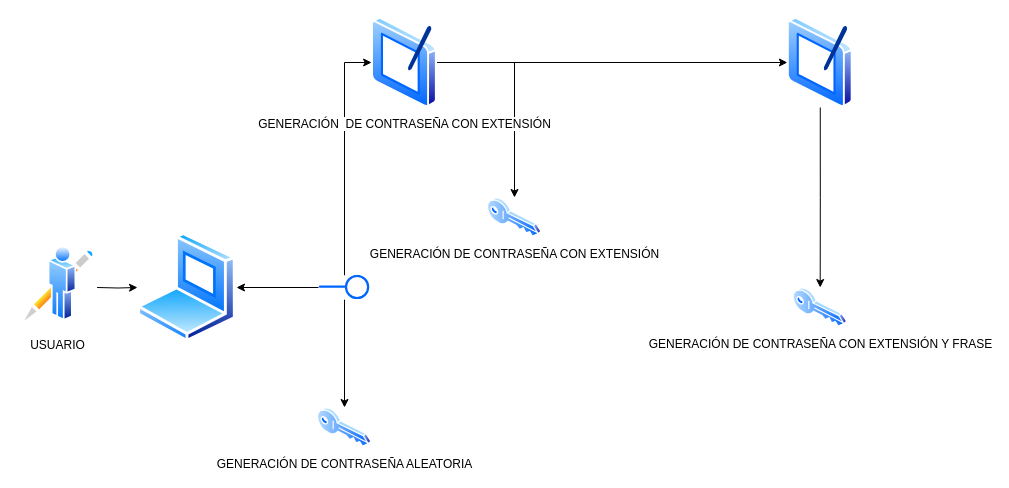
The diagram is 1009 pixels wide and 488 high, and some of its shapes have lost their labels. The shapes that lost their labels are listed below. From the top down, each one's box as (x1, y1, x2, y2) in pixels, then its label:
(787, 17, 853, 107): GENERACIÓN DE CONTRASEÑA CON FRASE
(137, 232, 236, 342): PC
(318, 275, 370, 299): INTERFAZ DE USURARIO
